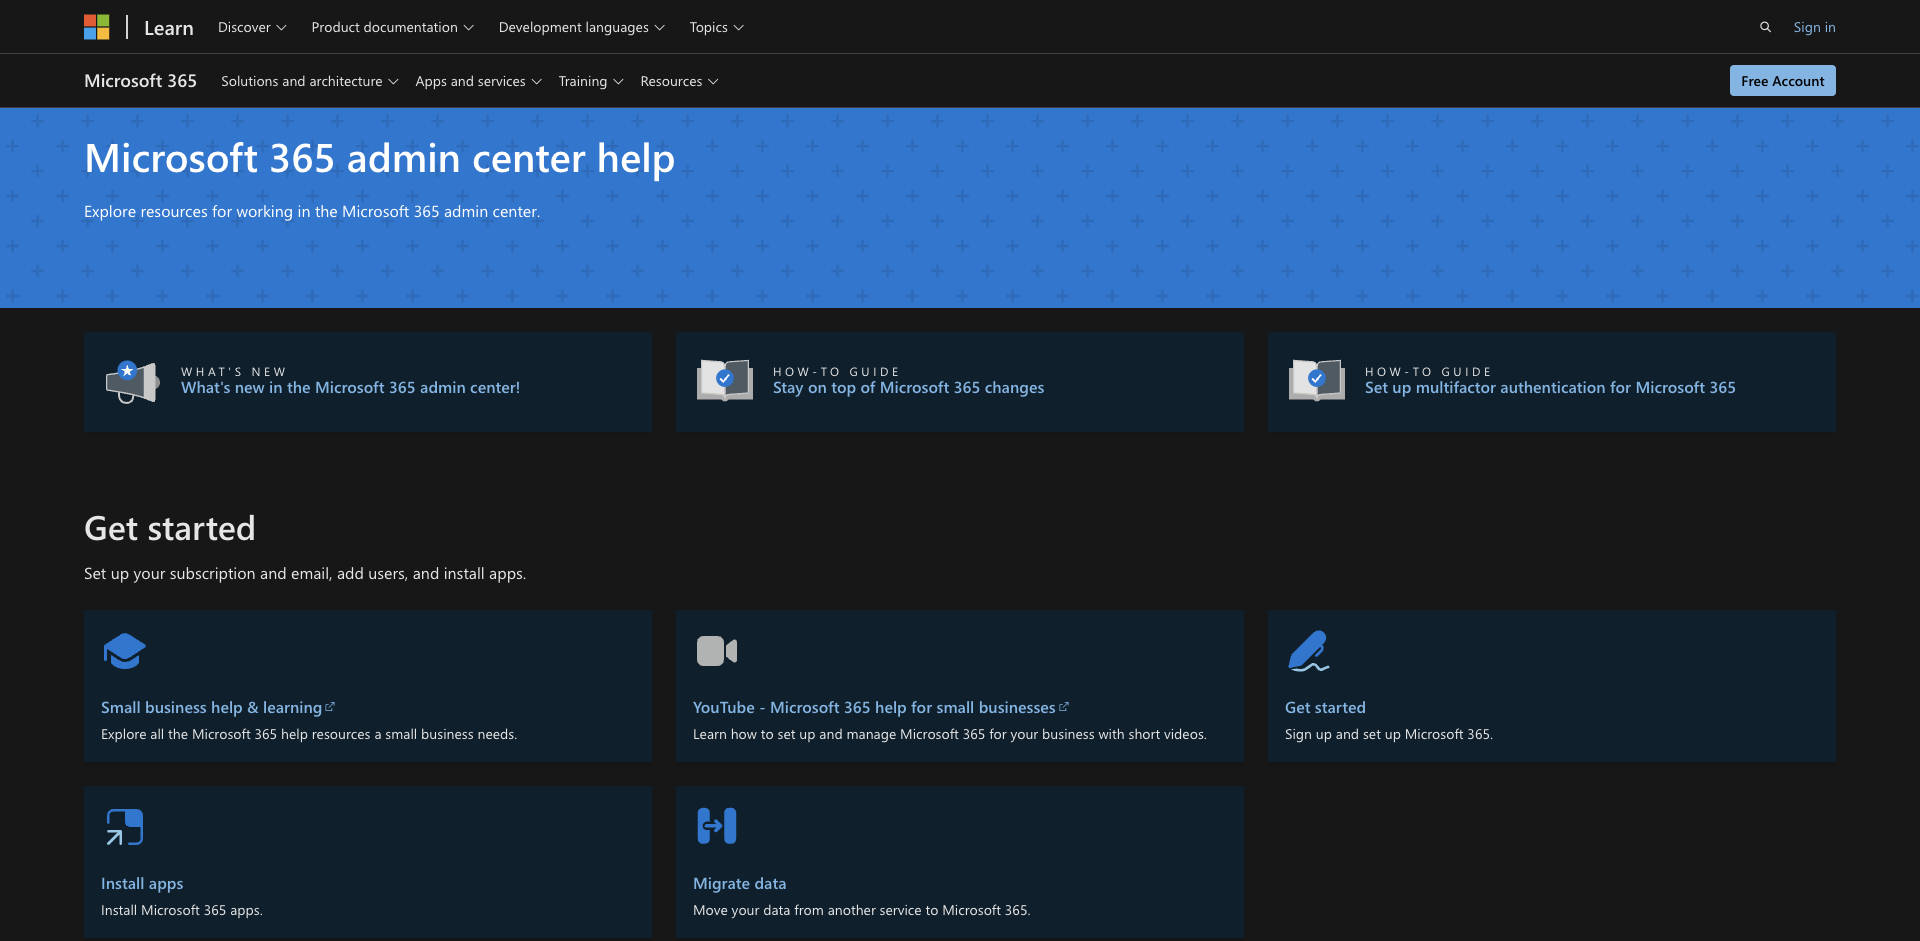button: (213, 54, 408, 107), (491, 0, 673, 53), (304, 0, 482, 53), (408, 54, 551, 107), (633, 54, 727, 107), (209, 0, 295, 53), (551, 54, 633, 107), (1730, 65, 1836, 104), (682, 0, 753, 53), (1730, 65, 1836, 97), (1746, 9, 1785, 44), (1794, 13, 1836, 39)
dropdown: (213, 54, 408, 107), (408, 54, 551, 107), (633, 54, 727, 107), (551, 54, 633, 107)
link: (100, 697, 636, 717), (100, 874, 636, 893), (693, 697, 1227, 717), (1284, 697, 1818, 717), (693, 874, 1227, 893), (1365, 377, 1736, 397), (181, 377, 520, 397), (773, 377, 1044, 397), (84, 62, 197, 99), (136, 7, 202, 45), (0, 0, 31, 31), (84, 13, 110, 39), (53, 524, 54, 526)
